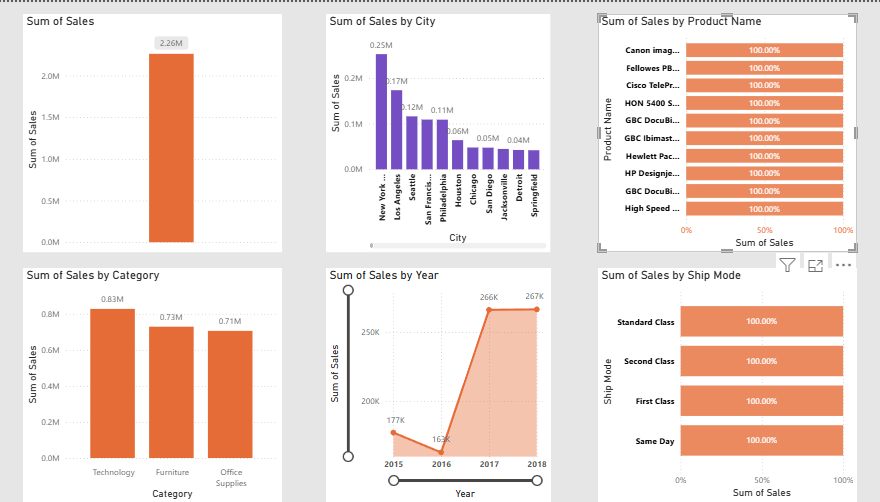

The page's visual inventory and layout, read from the dashboard file:
{"tool":"powerbi","page":{"name":"Page 1","canvas":[1280,720],"ordinal":0},"visuals":[{"type":"clusteredColumnChart","fields":{"Y":["Sum(train.Sales)"]},"box":[42,16.8,372.9,342.7],"z":0},{"type":"columnChart","fields":{"Category":["train.Category"],"Y":["Sum(train.Sales)"]},"box":[42,383,372.9,337.6],"z":1000},{"type":"columnChart","fields":{"Category":["train.City"],"Y":["Sum(train.Sales)"]},"box":[478.7,16.8,322.5,342.7],"z":2000},{"type":"lineChart","fields":{"Category":["train.Order Date.Variation.Date Hierarchy.Year","train.Order Date.Variation.Date Hierarchy.Quarter","train.Order Date.Variation.Date Hierarchy.Month","train.Order Date.Variation.Date Hierarchy.Day"],"Y":["Sum(train.Sales)"]},"box":[478.7,383,322.5,337.6],"z":3000},{"type":"hundredPercentStackedBarChart","fields":{"Category":["train.Product Name"],"Y":["Sum(train.Sales)"]},"box":[870.1,16.8,372.9,342.7],"z":4000},{"type":"hundredPercentStackedBarChart","fields":{"Category":["train.Ship Mode"],"Y":["Sum(train.Sales)"]},"box":[870,383,373,337],"z":5000}]}

Visuals, with their boxes in screenshot pixels (x1, y1, x2, y2), scaled from the page's 1280x720 canvas onto the 880x502 screenshot:
clusteredColumnChart - Sum(train.Sales): 29:12:285:251
columnChart - train.Category x Sum(train.Sales): 29:267:285:501
columnChart - train.City x Sum(train.Sales): 329:12:551:251
lineChart - train.Order Date.Variation.Date Hierarchy.Year x train.Order Date.Variation.Date Hierarchy.Quarter: 329:267:551:501
hundredPercentStackedBarChart - train.Product Name x Sum(train.Sales): 598:12:855:251
hundredPercentStackedBarChart - train.Ship Mode x Sum(train.Sales): 598:267:855:501
